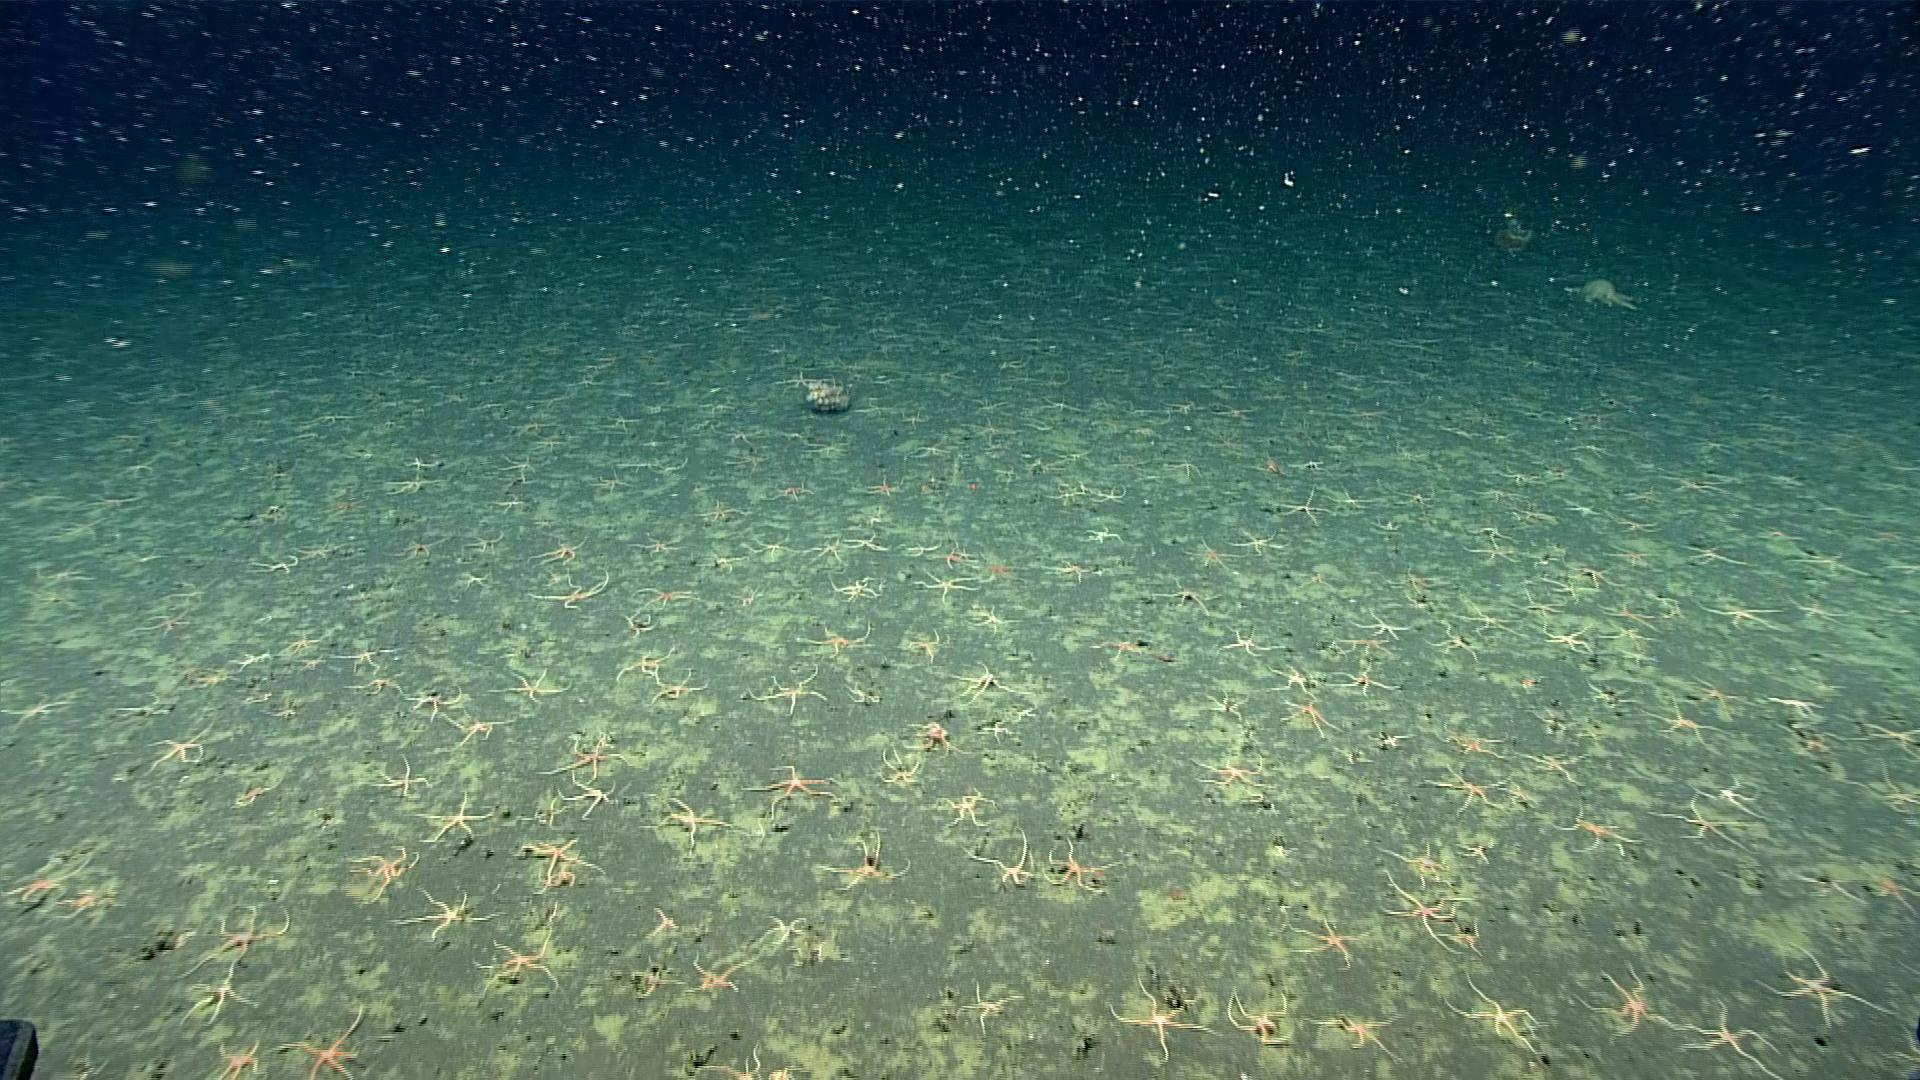brittle_sea_star: (1646, 986, 1783, 1079), (1755, 943, 1891, 1022), (1109, 973, 1220, 1063), (1567, 960, 1680, 1039), (174, 905, 295, 976), (1443, 972, 1544, 1055), (269, 1001, 365, 1079), (1382, 868, 1461, 953), (385, 887, 500, 945), (1646, 793, 1753, 853), (815, 827, 907, 894), (469, 936, 562, 1001), (510, 836, 603, 895), (1, 851, 94, 909), (741, 761, 841, 812), (1548, 802, 1640, 857), (178, 963, 258, 1026), (1303, 1001, 1399, 1052), (1374, 835, 1465, 889), (1644, 695, 1733, 749), (642, 795, 735, 847), (963, 825, 1039, 887), (345, 844, 419, 906), (1284, 913, 1367, 967), (537, 729, 625, 779), (411, 795, 500, 845), (1425, 770, 1518, 818), (493, 653, 574, 707), (1838, 761, 1919, 814), (524, 566, 616, 611), (952, 980, 1025, 1036), (1042, 835, 1116, 890), (1226, 986, 1292, 1046), (138, 727, 214, 777), (752, 666, 831, 713), (436, 707, 520, 749), (1700, 770, 1768, 819), (1433, 720, 1509, 762), (556, 774, 621, 823), (942, 662, 1014, 704), (686, 951, 753, 996), (1453, 597, 1524, 640), (795, 618, 876, 655), (1193, 752, 1267, 791), (1701, 597, 1789, 630), (55, 878, 120, 923), (913, 563, 997, 597), (1328, 658, 1400, 698), (1514, 746, 1590, 783), (1795, 546, 1873, 582), (1279, 694, 1338, 738), (368, 753, 430, 794), (936, 787, 994, 831), (13, 692, 80, 728), (404, 687, 465, 725), (1431, 624, 1485, 667), (1215, 624, 1283, 658), (696, 1043, 762, 1079), (331, 637, 397, 673), (1352, 604, 1415, 641), (1154, 578, 1217, 615), (630, 580, 707, 611), (1276, 487, 1333, 527), (754, 913, 816, 947), (616, 647, 675, 683), (138, 603, 195, 640), (642, 675, 711, 705), (215, 1036, 264, 1079), (529, 538, 592, 570), (1184, 534, 1238, 571), (1874, 874, 1919, 918), (630, 960, 683, 997), (1461, 535, 1522, 567), (873, 748, 920, 787), (347, 666, 406, 698), (1262, 662, 1319, 695), (1854, 720, 1917, 749), (823, 576, 886, 605), (1515, 584, 1568, 618), (1229, 529, 1286, 560), (965, 604, 1019, 637), (229, 777, 284, 810), (276, 625, 327, 659), (628, 529, 686, 559), (376, 472, 446, 497), (1677, 541, 1747, 566), (1536, 624, 1589, 654), (1087, 636, 1147, 662), (1796, 597, 1853, 625), (1396, 575, 1440, 611), (225, 645, 278, 674), (1544, 571, 1597, 600), (910, 717, 956, 750), (247, 550, 301, 578), (495, 451, 541, 483), (802, 535, 847, 567), (694, 498, 748, 524), (1607, 545, 1662, 568), (646, 906, 683, 940), (617, 608, 655, 641), (902, 628, 940, 661), (186, 666, 233, 692), (843, 530, 890, 556), (393, 535, 438, 562), (1511, 505, 1563, 527), (750, 534, 794, 560), (587, 468, 634, 492), (1604, 622, 1656, 644), (468, 531, 514, 555), (1622, 645, 1665, 670), (1083, 522, 1124, 547), (324, 496, 376, 516), (775, 476, 814, 502), (1044, 559, 1092, 580), (935, 545, 975, 570), (1396, 488, 1435, 512), (1046, 483, 1085, 505), (864, 475, 901, 498), (1092, 484, 1129, 506), (1894, 1029, 1919, 1062), (458, 570, 493, 592), (293, 543, 334, 562), (901, 541, 938, 560), (994, 462, 1023, 487)
